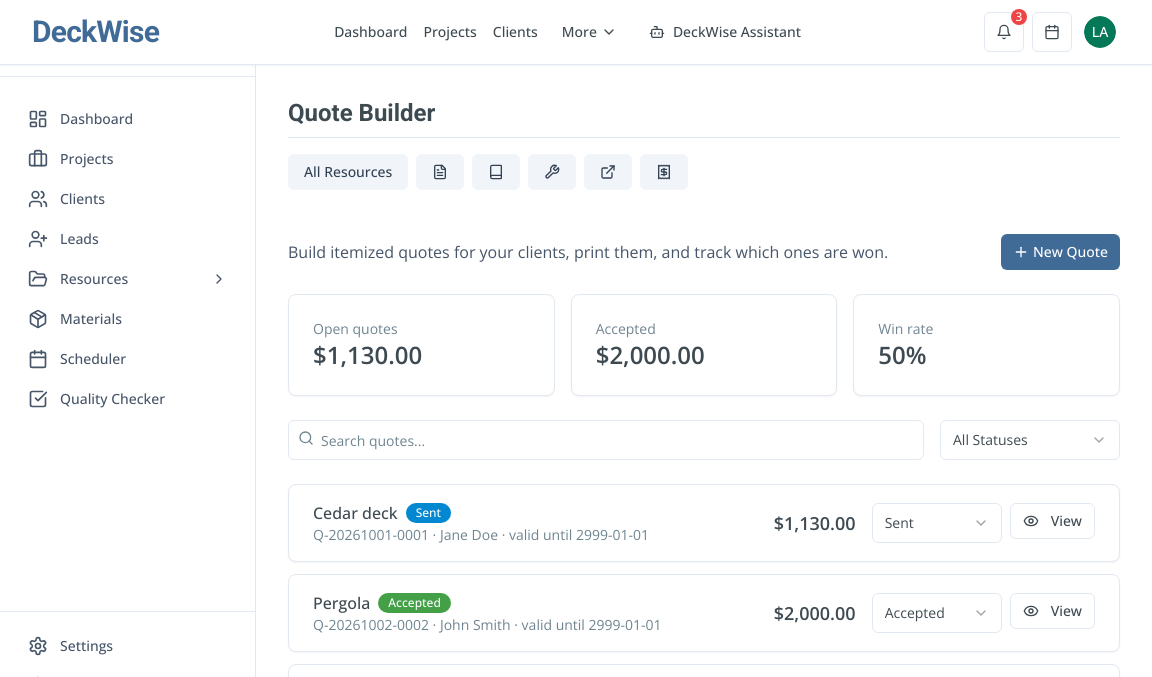
Test case: Quotes page › filters by search text across title, number and client
expect the text "Cedar deck" is shown: met, box x1=313 y1=501 x2=398 y2=525
Type "john" into the field with placeholder "Search quotes..." at (606, 440), box x1=288 y1=420 x2=924 y2=460
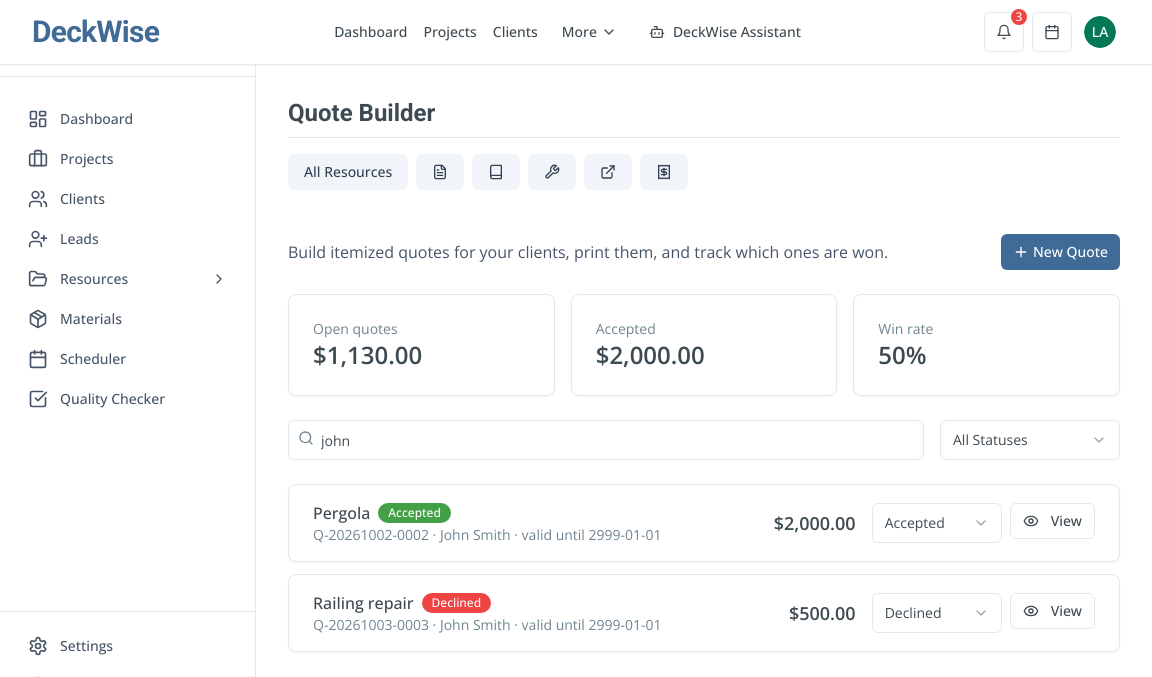
expect the text "Pergola" is shown: met, box x1=313 y1=501 x2=370 y2=525
expect the text "Cedar deck" is gone: met
